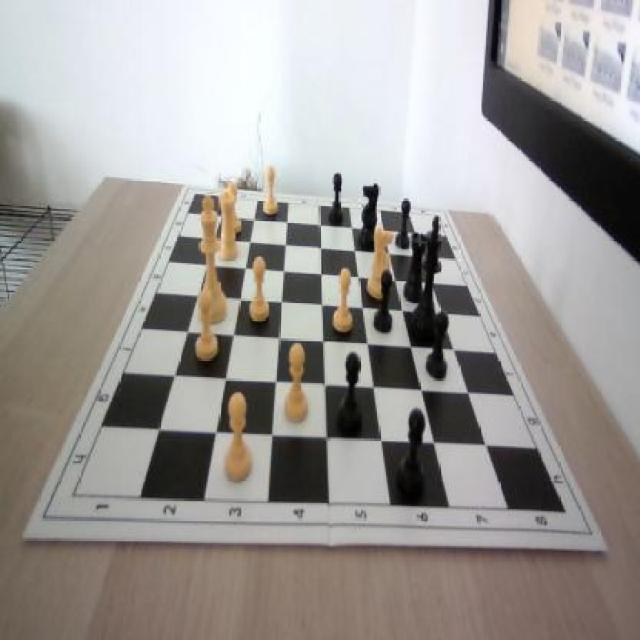black-bishop: (411, 215, 444, 341)
black-king: (358, 183, 380, 252)
black-knight: (396, 404, 426, 502), (336, 350, 366, 436), (426, 311, 452, 382), (374, 270, 394, 332), (326, 172, 348, 228), (394, 195, 415, 250)
black-queen: (403, 231, 429, 303)
white-bishop: (194, 194, 227, 325)
white-king: (366, 224, 395, 300)
white-knight: (223, 394, 252, 481), (283, 340, 309, 426), (329, 268, 357, 338), (194, 288, 220, 363), (248, 256, 270, 324), (262, 165, 280, 219), (226, 182, 242, 232)
white-queen: (220, 191, 239, 260)
